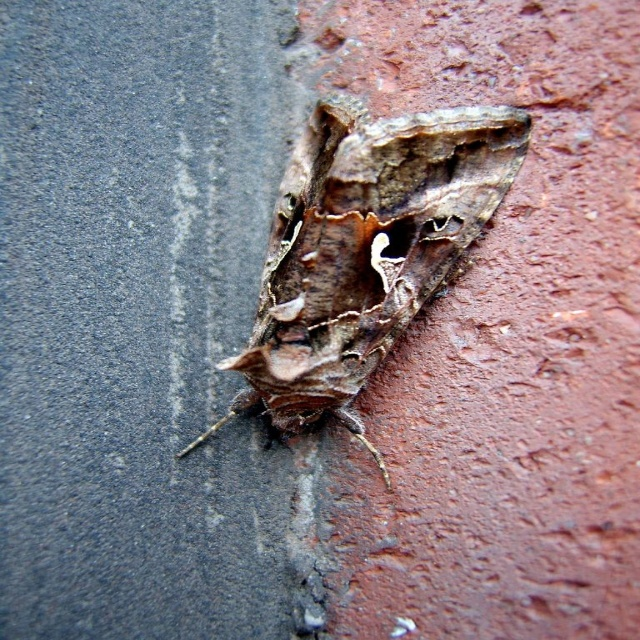Moths and butterflies: (173, 101, 533, 492)
